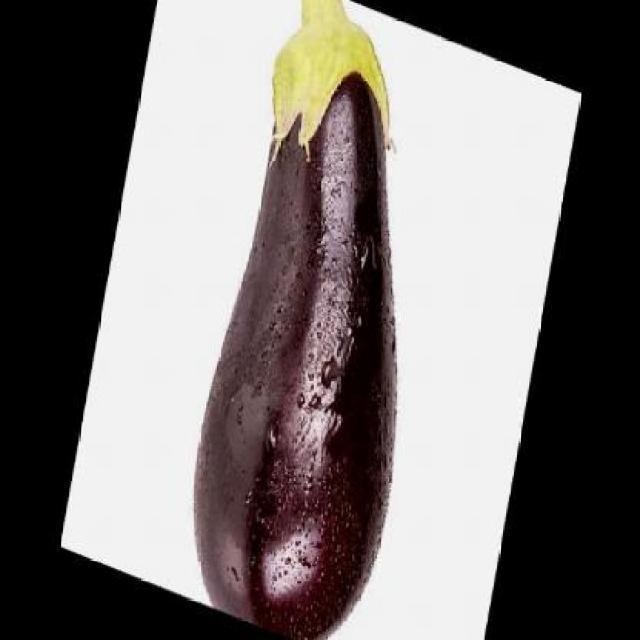eggplant: (169, 0, 469, 638)
